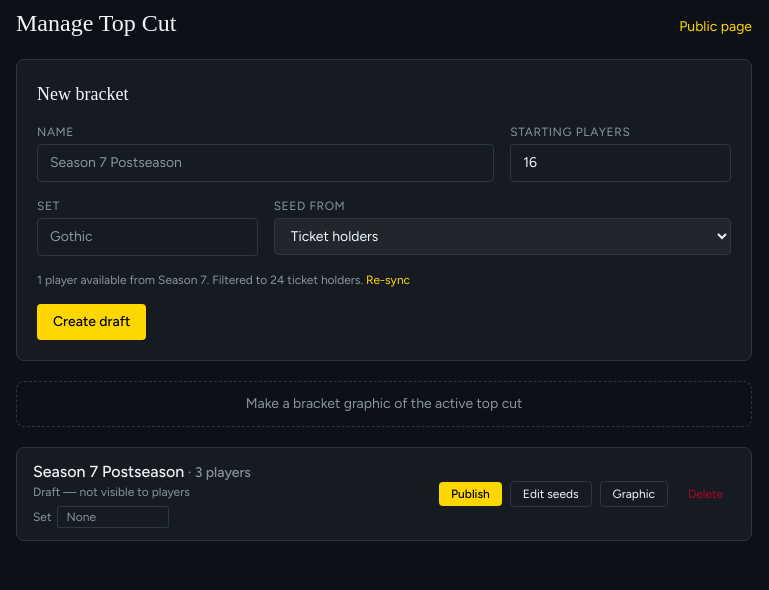
Test: BracketsAdmin › shows a publish failure
Click the button "Publish".
click(470, 494)  # box [439,482,502,506]
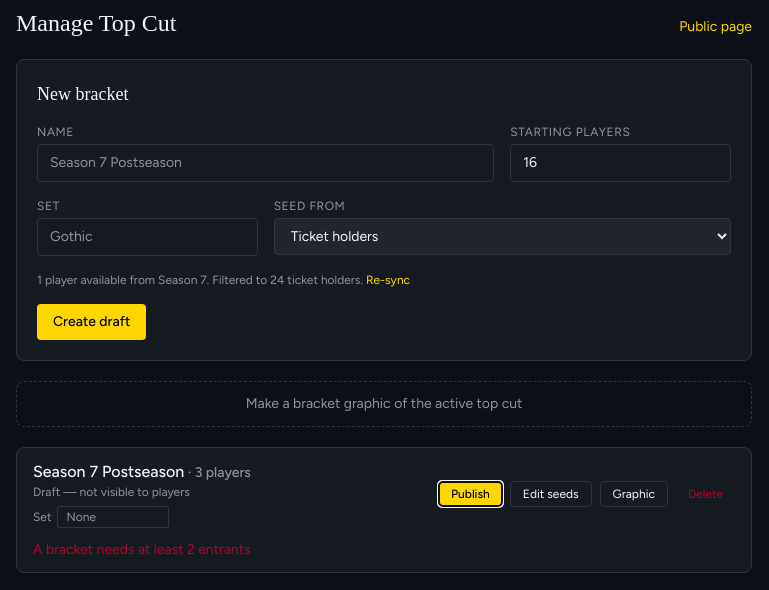
Check: the text "A bracket needs at least 2 entrants" is shown, box [33,541,250,558]
